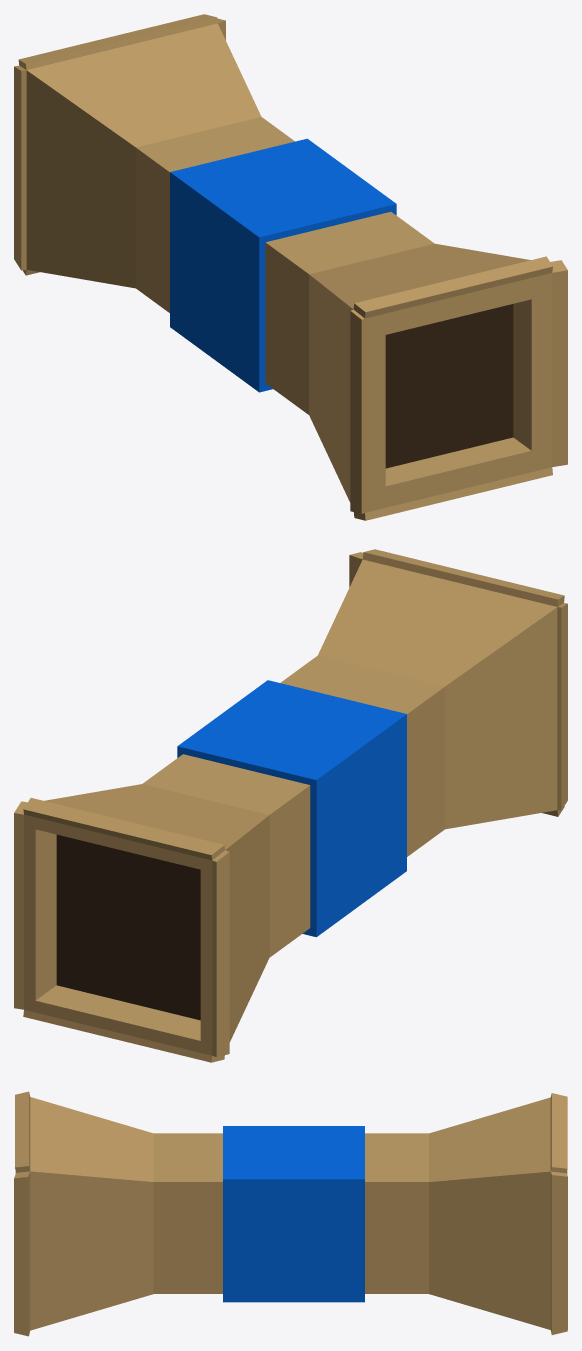
Rendered from waterscrollt1.glb.
The picture shows the model from 3 angles, top to bottom: view 1: azimuth 30°, elevation 25°; view 2: azimuth 150°, elevation 25°; view 3: azimuth 270°, elevation 25°; orthographic projection. The views are drawn at different scales.
Parts seen in each view (by area): view 1: Cube; view 2: Cube; view 3: Cube.
Part boxes in pixels (box(x1,y1,x2,y2)): Cube: box(14, 14, 567, 520); Cube: box(14, 549, 567, 1062); Cube: box(14, 1091, 567, 1336).
Bounding box in the file's own units: 0.7029 × 0.6835 × 2.01.
